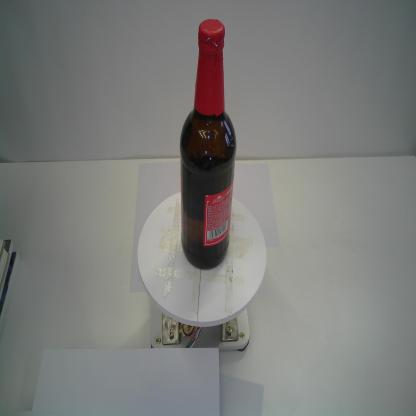Alcohol: (178, 18, 238, 272)
